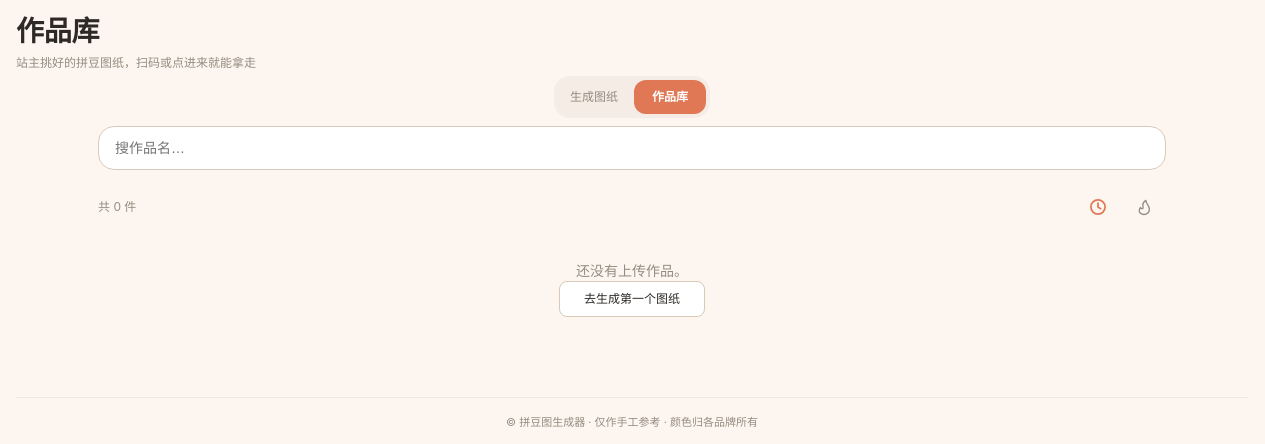
搜索框 › 清除按钮清空搜索词
Check: the text "还没有上传作品。" is shown, box [576,262,688,279]
Step 1. Type "小熊" into the search field → [632, 148], box [98,126,1166,170]
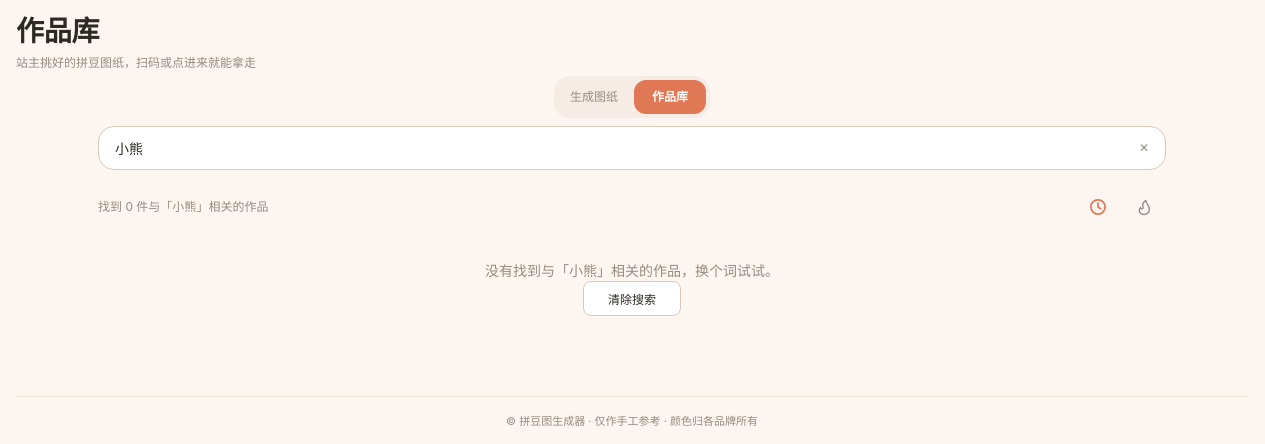
Step 2. Click the button named "清空搜索框" → [1144, 148], box [1122,126,1166,170]
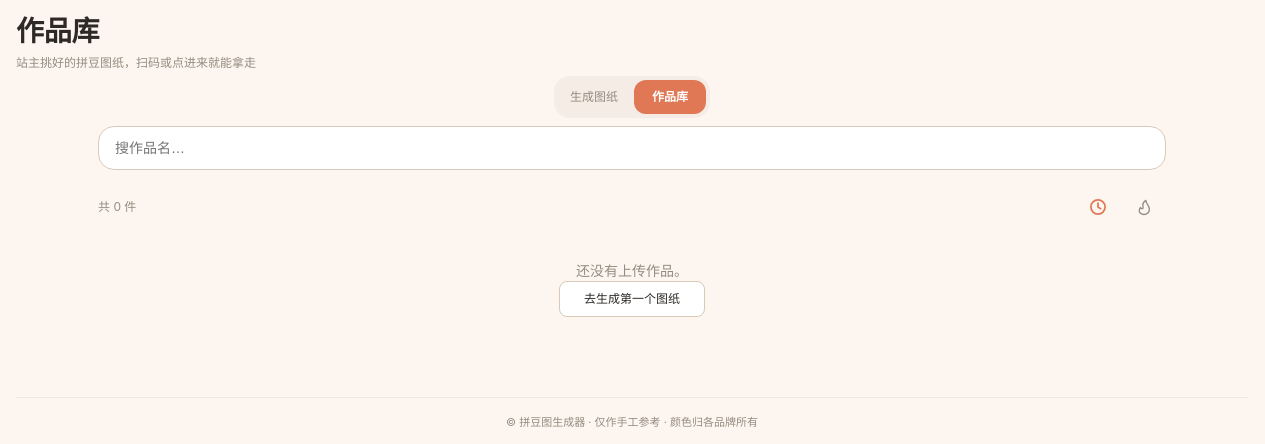
Check: the search field is empty, box [98,126,1166,170]
